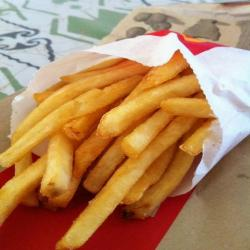fries: (19, 59, 217, 198)
